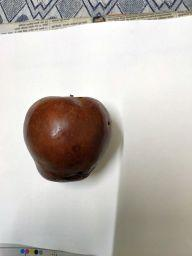Apple Rotten: (20, 92, 113, 182)
